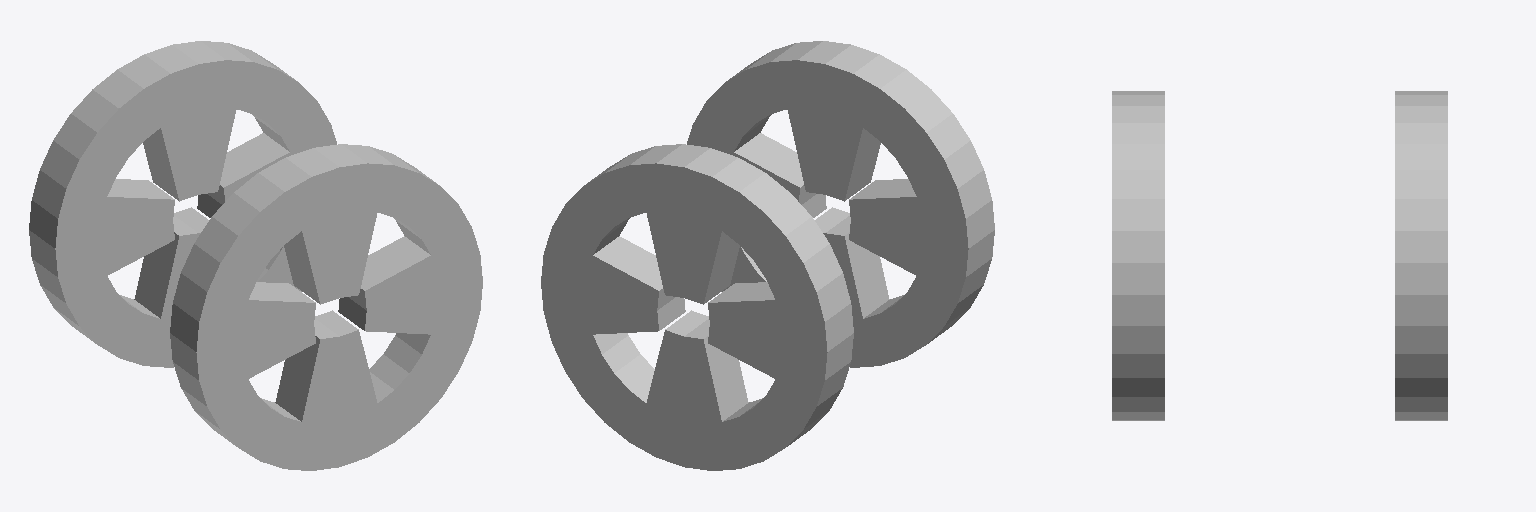
File: weels.obj
The picture shows the model from 3 angles: view 1: azimuth 30°, elevation 25°; view 2: azimuth 150°, elevation 25°; view 3: azimuth 270°, elevation 25°; orthographic projection.
Visible parts, largest first — view 1: weels.002_Cylinder.002; view 2: weels.002_Cylinder.002; view 3: weels.002_Cylinder.002.
Boxes of the visible parts, box(x1,y1,x2,y2) form: weels.002_Cylinder.002: box(29, 41, 482, 470); weels.002_Cylinder.002: box(541, 41, 994, 470); weels.002_Cylinder.002: box(1112, 91, 1447, 420).
Size of the model in its own units: 4.88 by 4.88 by 4.94.